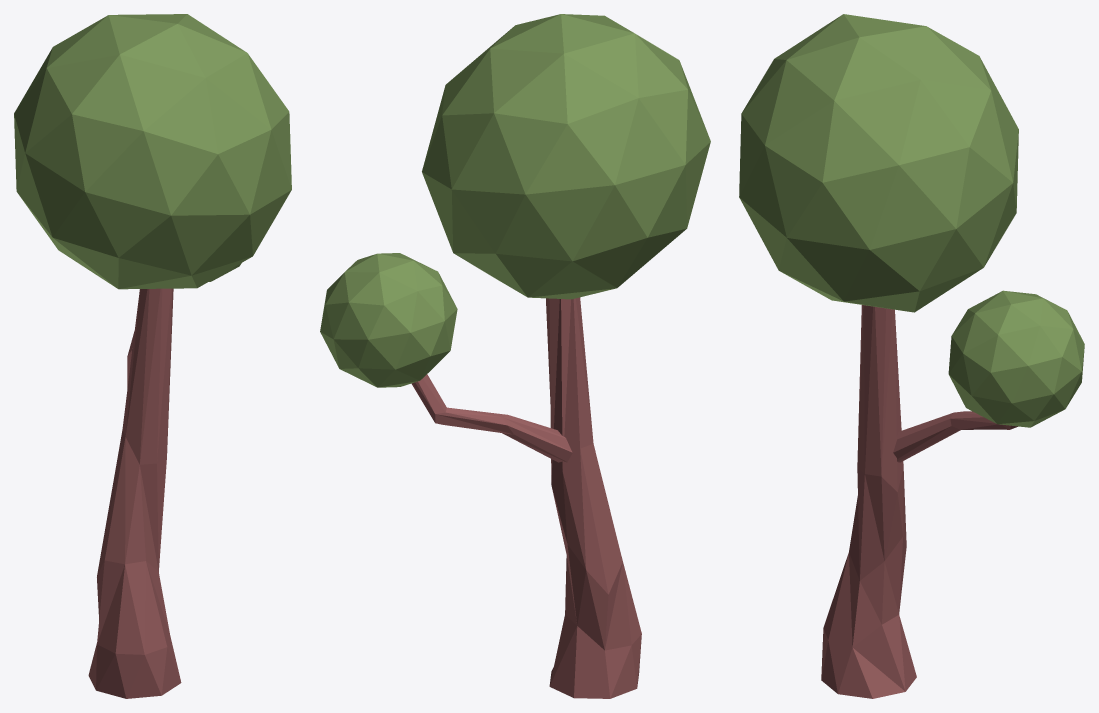
File: Poplar Tree_2.fbx
The picture shows the model from 3 angles, left to right: view 1: azimuth 30°, elevation 25°; view 2: azimuth 150°, elevation 25°; view 3: azimuth 270°, elevation 25°; orthographic projection.
Visible parts, largest first — view 1: Poplar Tree_2; view 2: Poplar Tree_2; view 3: Poplar Tree_2.
Part boxes in pixels (x1,y1,x2,y2): Poplar Tree_2: (14,14,291,698); Poplar Tree_2: (320,14,710,698); Poplar Tree_2: (739,14,1084,698).
Bounding box in the file's own units: 2.03 × 4.34 × 2.06.
